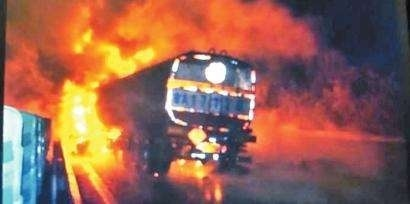fire: (40, 0, 152, 191)
